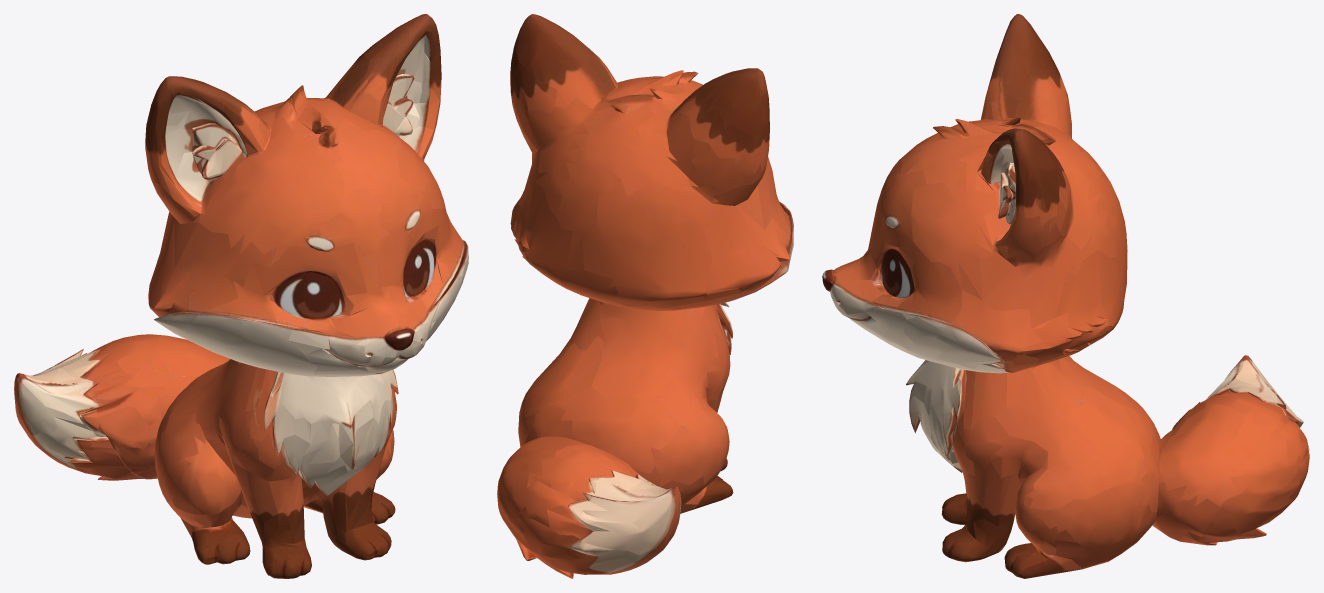
File: pet_bramble.glb
3 views of the same model, side by side, from view 1: azimuth 30°, elevation 25°; view 2: azimuth 150°, elevation 25°; view 3: azimuth 270°, elevation 25° (orthographic). The views are drawn at different scales.
Bounding box in the file's own units: 1.26 × 1.9 × 1.81.
1 material, 1 textured.
